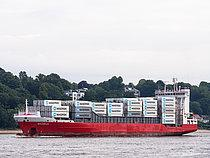Ship: (11, 83, 203, 142)
